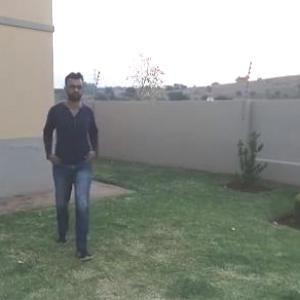follow: (43, 71, 100, 237)
